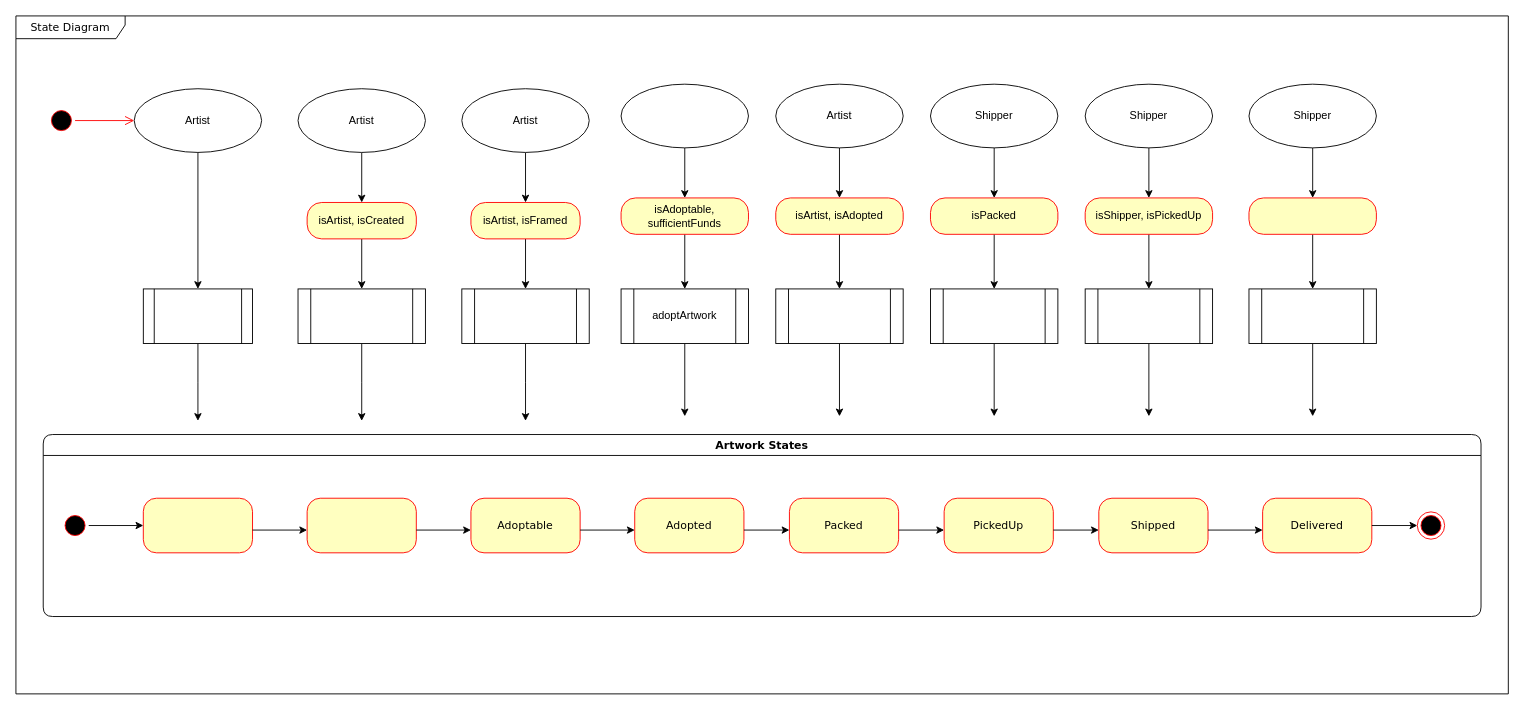
This 1524x710 diagram has some shape labels left out. Here are the shapes that lost their labels. From the top down, the box of each, then its label:
(620, 83, 748, 148): Art Adopter
(1248, 197, 1376, 234): isShipper, isShipped
(142, 288, 253, 344): createArtwork
(297, 288, 425, 344): frameArtwork
(461, 288, 589, 344): adoptableArtwork
(775, 288, 903, 344): packArtwork
(930, 288, 1058, 344): pickUpArtwork
(1084, 288, 1213, 344): shipArtwork
(1248, 288, 1376, 344): deliverArtwork
(142, 497, 253, 553): Created
(306, 497, 416, 553): Framed
